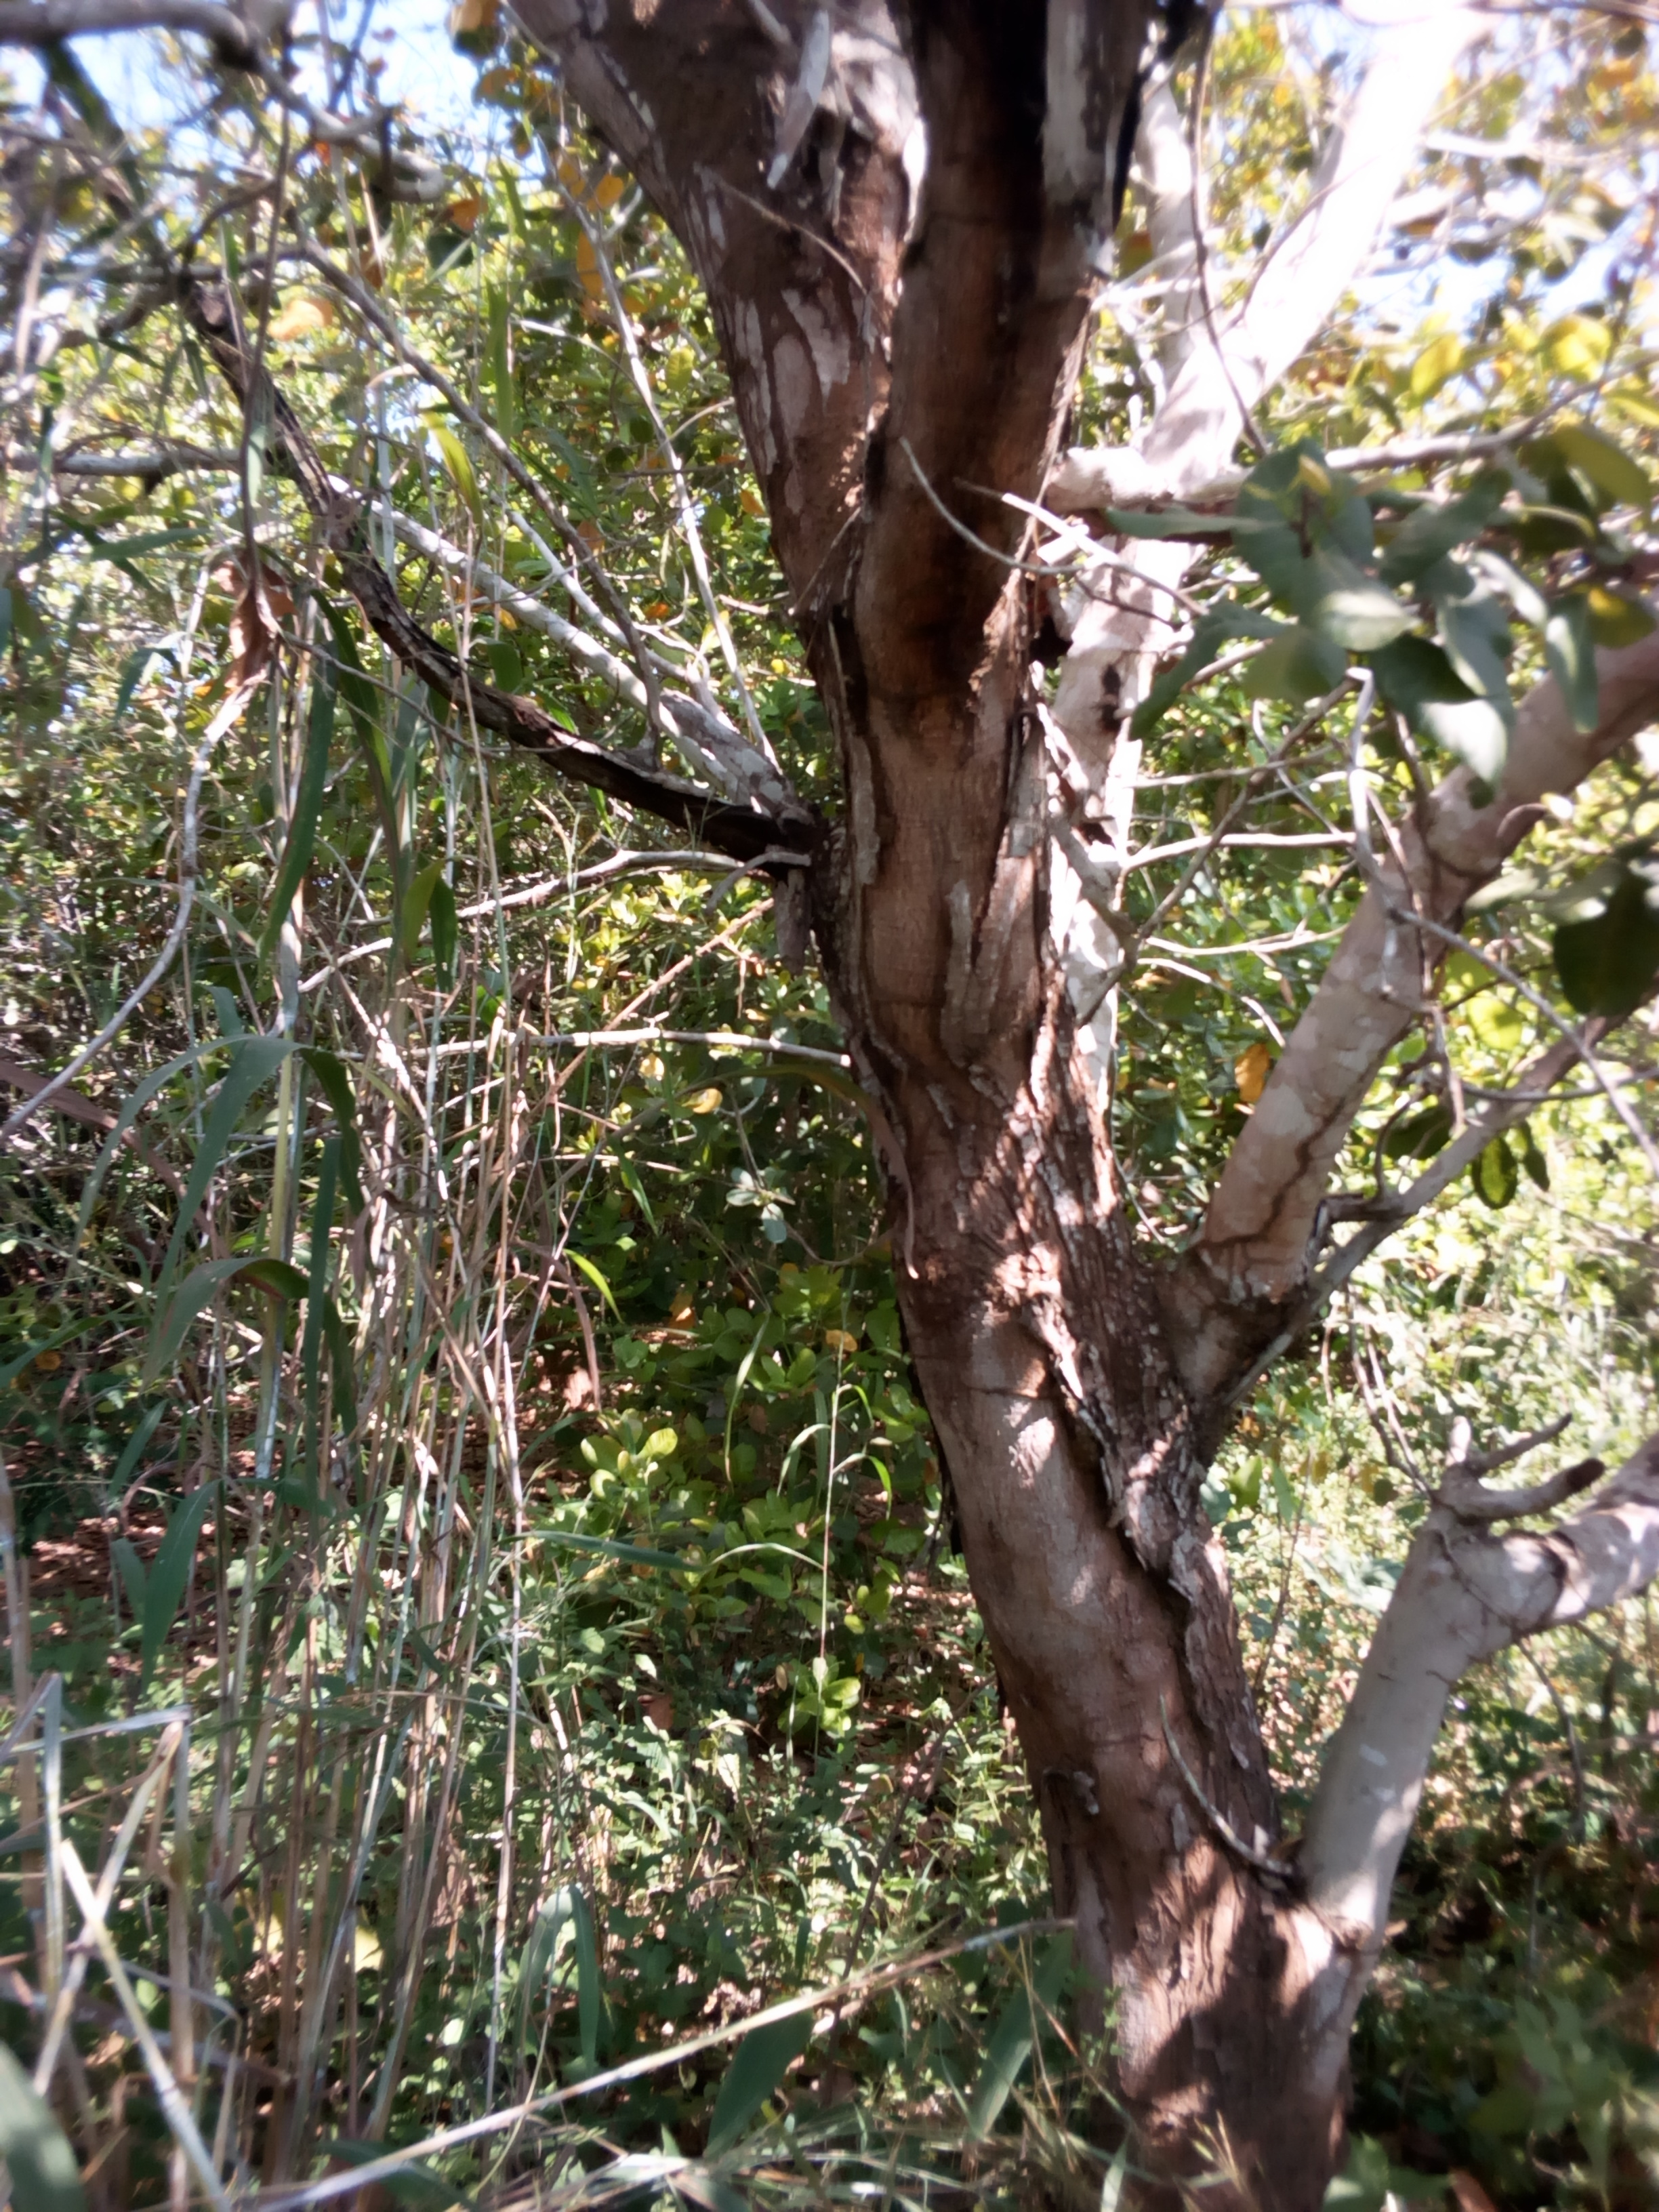Termites: (1026, 1310, 1286, 1905), (861, 690, 1114, 1282)
